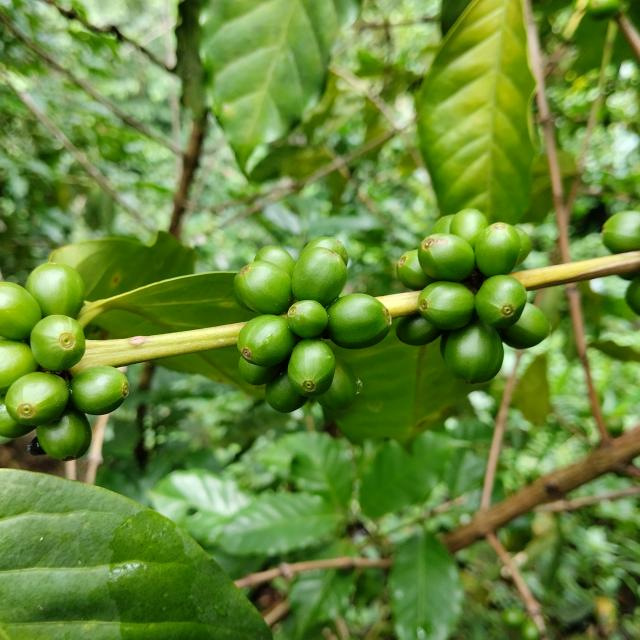green: (444, 319, 505, 384), (326, 294, 392, 349), (4, 372, 68, 426), (24, 262, 84, 318), (292, 247, 348, 306), (233, 260, 293, 315), (35, 406, 91, 462), (29, 315, 85, 371), (237, 315, 297, 367), (68, 366, 128, 416), (475, 275, 528, 329), (418, 281, 476, 330), (418, 233, 476, 282), (288, 340, 336, 397), (316, 356, 363, 411), (475, 222, 521, 277), (499, 303, 551, 349), (0, 282, 41, 340), (0, 339, 37, 395), (265, 369, 308, 413), (287, 300, 329, 339), (397, 249, 436, 290), (603, 210, 640, 253), (451, 208, 489, 249), (396, 314, 444, 346), (301, 236, 349, 266), (238, 356, 285, 386), (254, 246, 296, 277), (515, 226, 532, 266), (431, 214, 455, 234)
